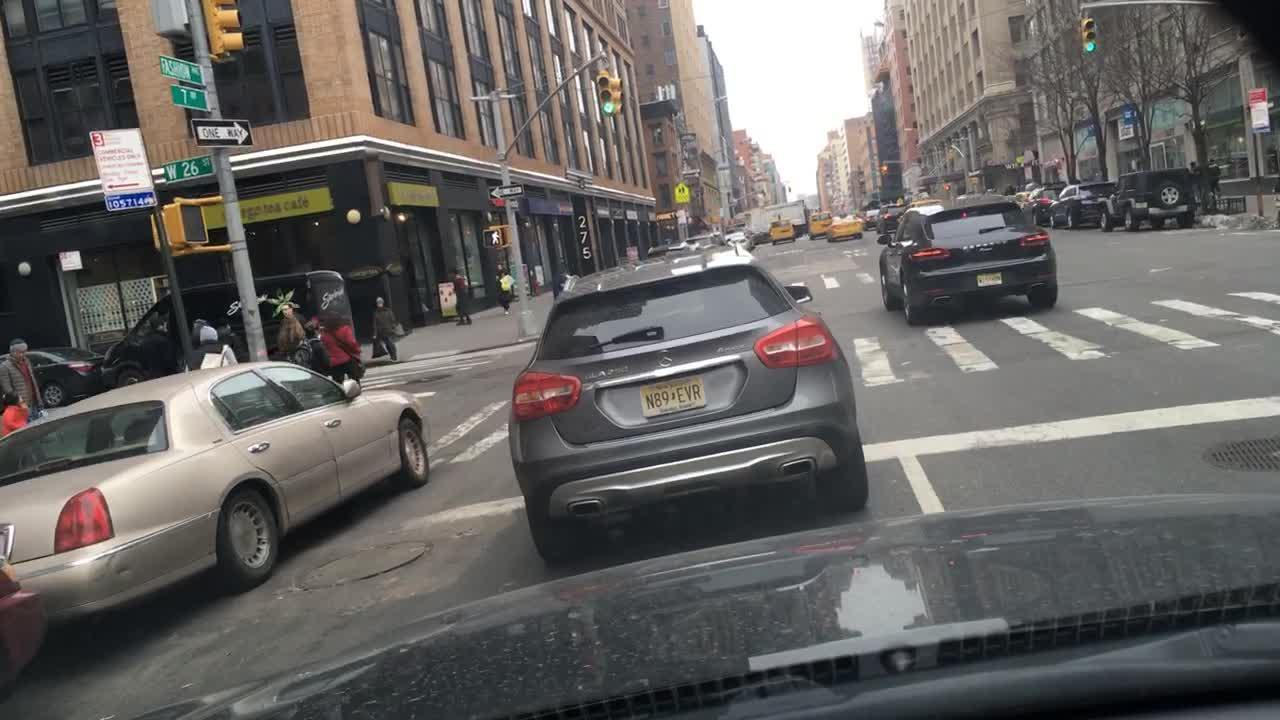Mercedes: (646, 344, 683, 375)
porsche: (957, 238, 1012, 253)
